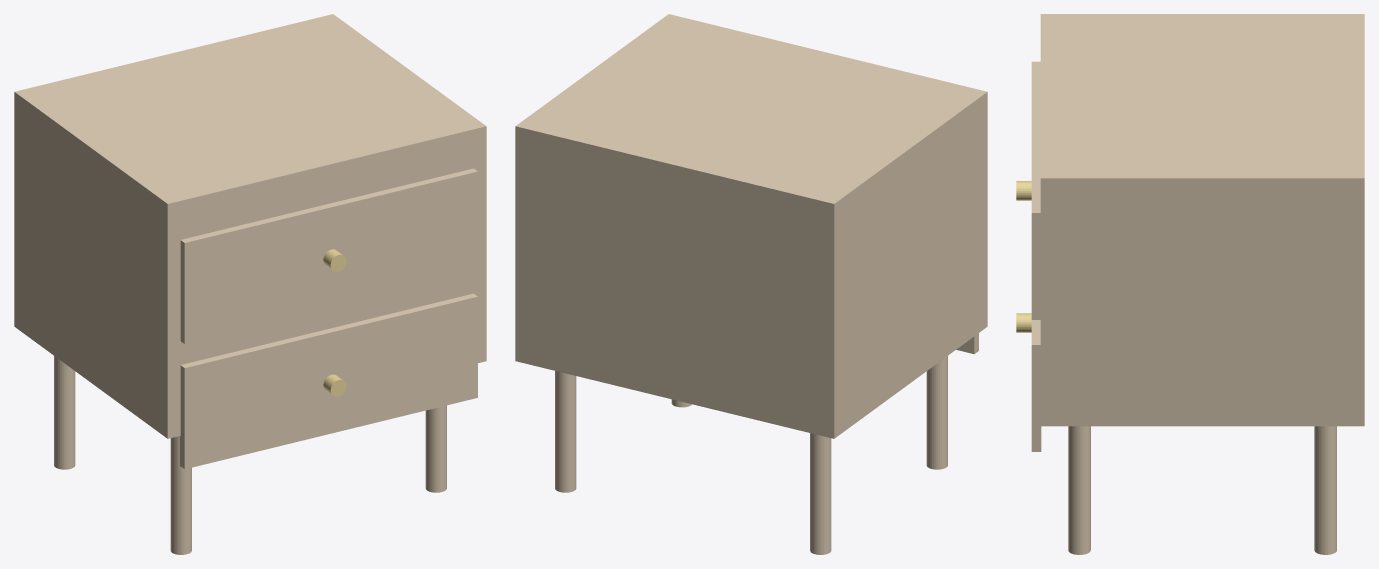
File: NST-002.glb
3 views of the same model, side by side, from view 1: azimuth 30°, elevation 25°; view 2: azimuth 150°, elevation 25°; view 3: azimuth 270°, elevation 25° (orthographic). The views are drawn at different scales.
Visible parts, largest first — view 1: Cube, Cube.001, Cube.002, Cylinder.003, Cylinder.002, Cylinder.004; view 2: Cube, Cylinder.005, Cylinder.003, Cylinder.002; view 3: Cube, Cylinder.004, Cylinder.005, Cube.002, Cube.001.
Boxes of the visible parts, bbox=[...] form: Cube: bbox=[14, 14, 486, 438]; Cube.001: bbox=[180, 293, 477, 469]; Cube.002: bbox=[180, 168, 477, 343]; Cylinder.003: bbox=[54, 356, 75, 469]; Cylinder.002: bbox=[170, 436, 191, 554]; Cylinder.004: bbox=[425, 405, 446, 492]; Cube: bbox=[515, 14, 987, 438]; Cylinder.005: bbox=[555, 371, 576, 492]; Cylinder.003: bbox=[810, 433, 831, 554]; Cylinder.002: bbox=[926, 356, 947, 469]; Cube: bbox=[1040, 14, 1364, 426]; Cylinder.004: bbox=[1068, 426, 1090, 554]; Cylinder.005: bbox=[1314, 426, 1336, 554]; Cube.002: bbox=[1031, 61, 1040, 319]; Cube.001: bbox=[1031, 320, 1041, 451].
Bounding box in the file's own units: 0.48 × 0.529 × 0.43.
